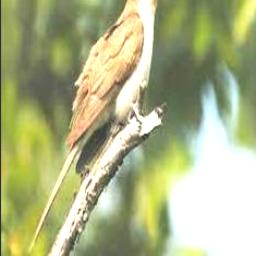Cuckoo: (29, 0, 173, 252)
